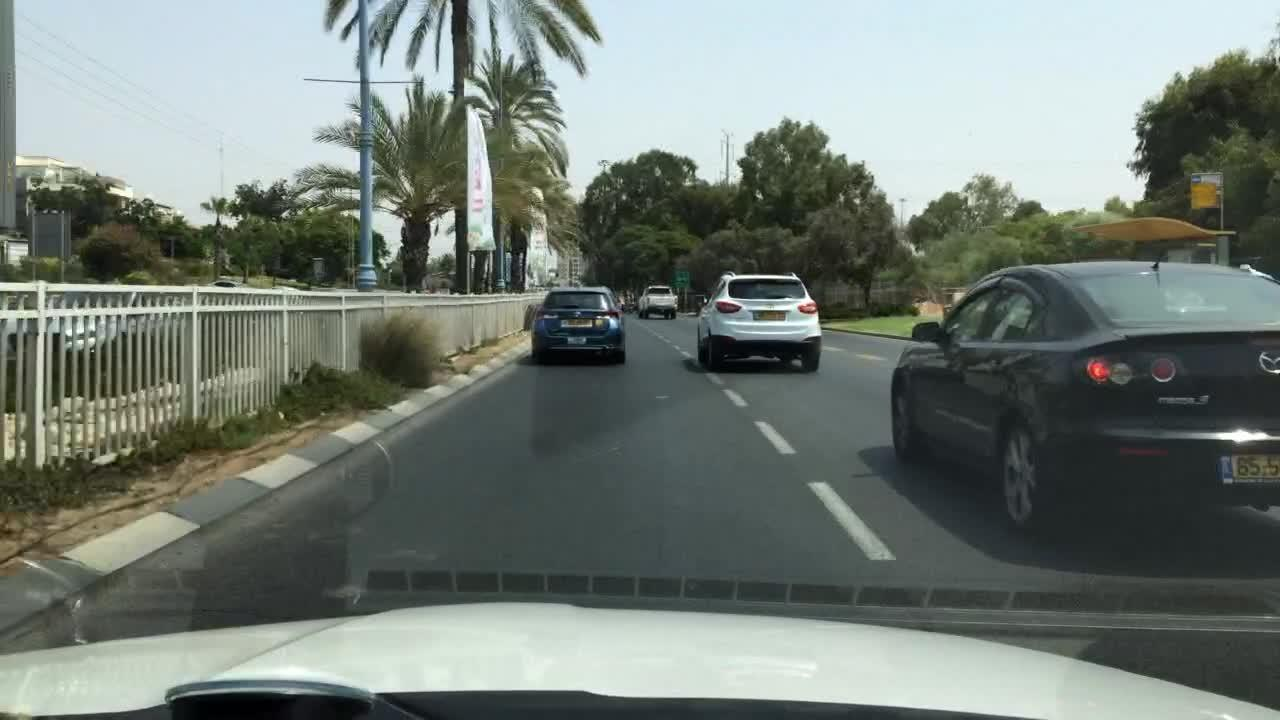Mazda: (1252, 338, 1280, 384)
